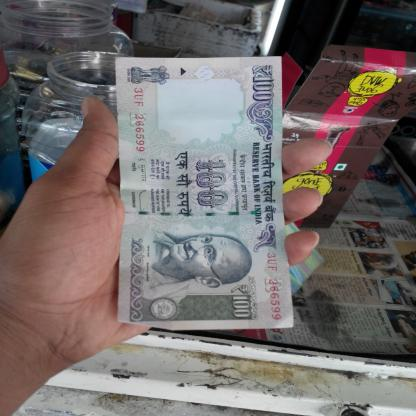Old100Front: (115, 55, 296, 331)
